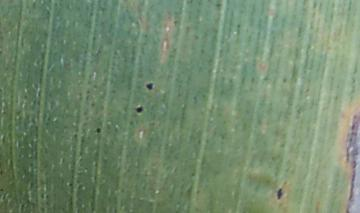tarspot: (275, 187, 285, 201), (143, 80, 154, 92), (134, 104, 144, 114), (94, 126, 103, 136), (214, 1, 223, 10), (192, 33, 200, 40), (281, 75, 288, 83), (66, 182, 75, 188), (172, 19, 178, 26), (1, 187, 5, 192)
